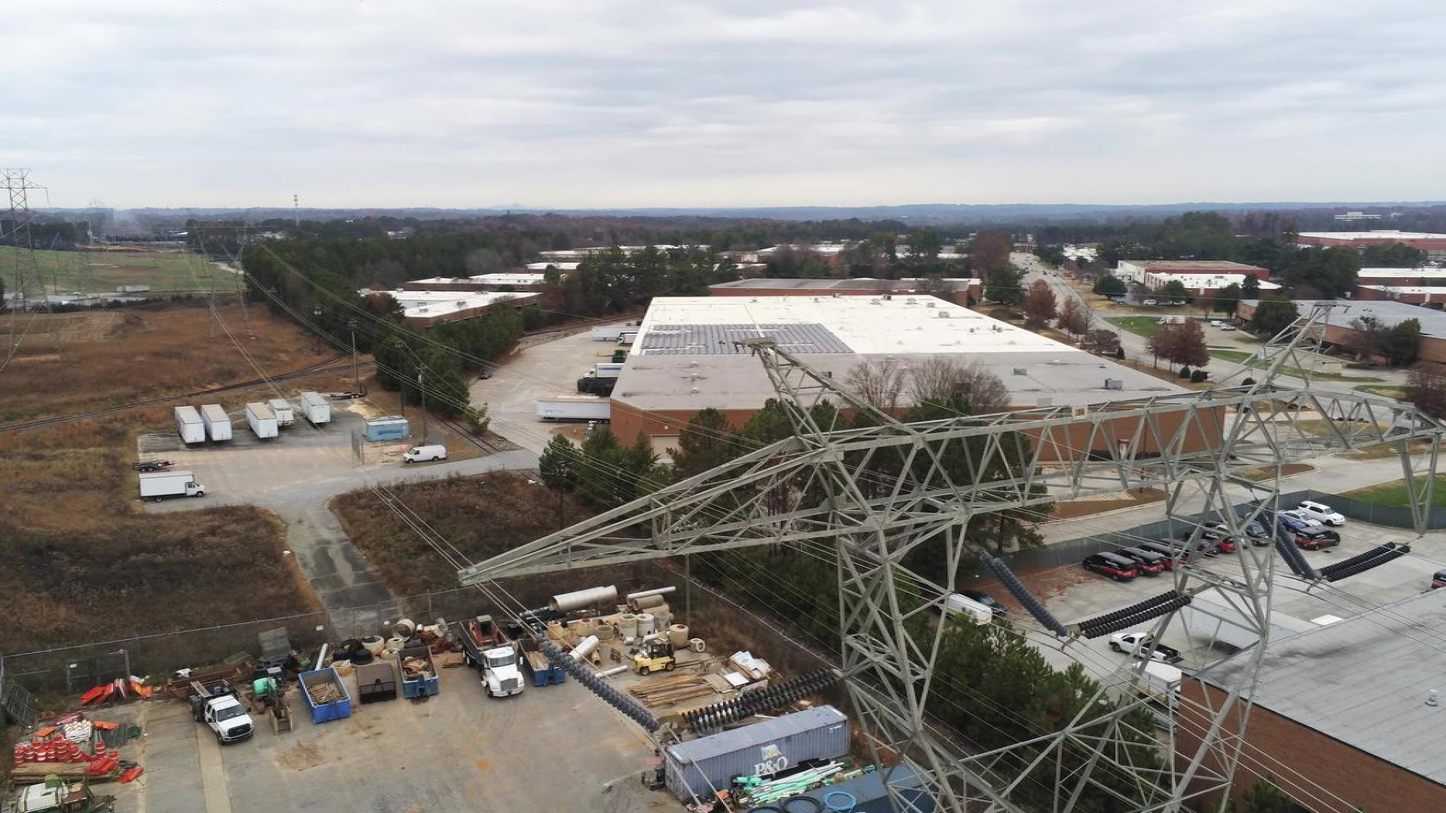insulator: (538, 638, 660, 733), (681, 666, 837, 735), (977, 549, 1069, 639), (1075, 587, 1194, 641), (1249, 503, 1314, 580), (1316, 540, 1412, 583)
